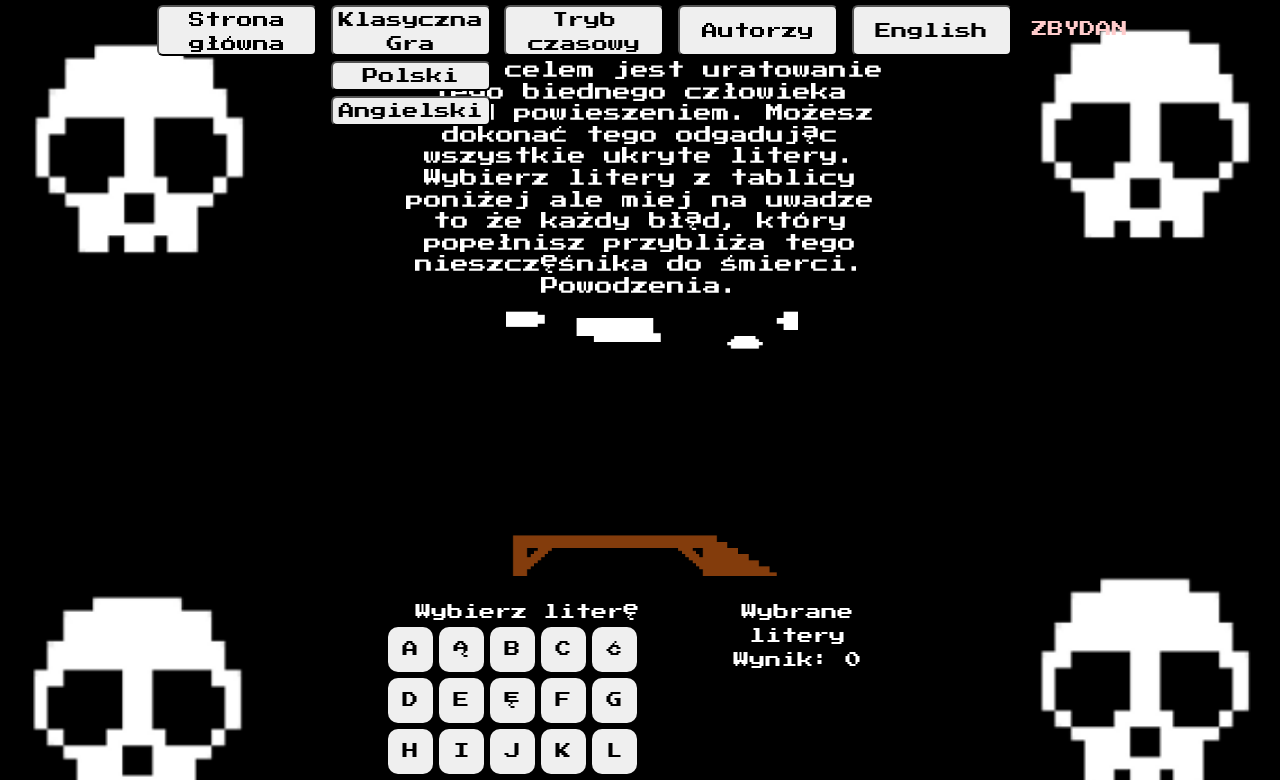
Test case: Toggle language button › Should check if text on "toggle language" button is "Polski" in classic game mode
Hover over the button with id "classic-game-button" at [411, 31], box [331,5,491,56]
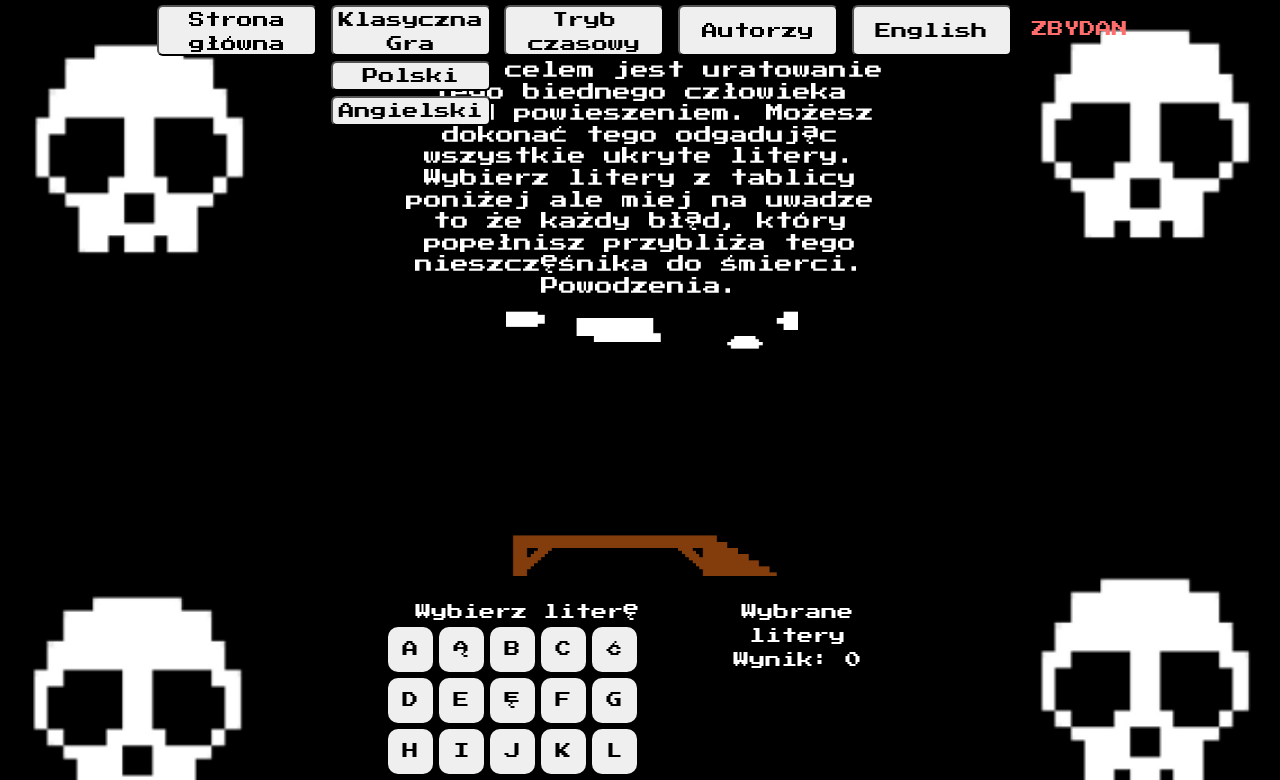
Hover over the button with id "classic-game-english-button" at [411, 111], box [331,96,491,126]
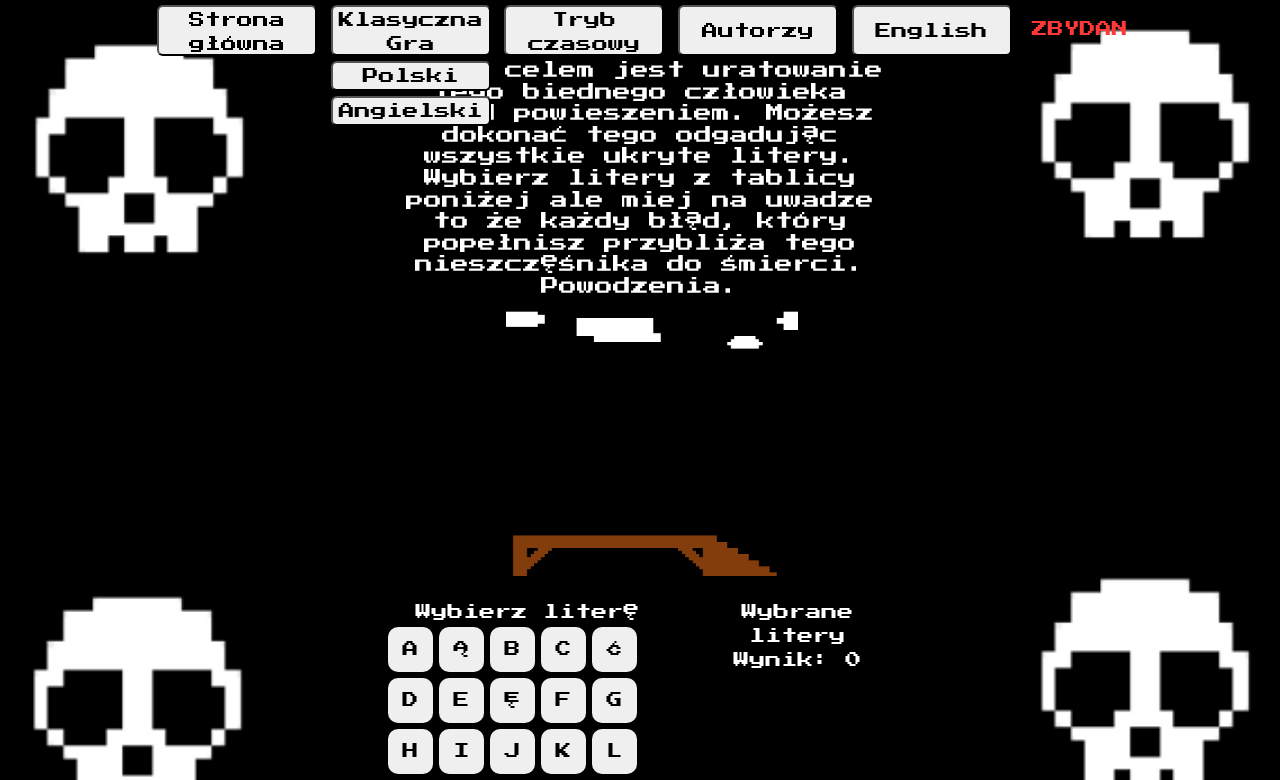
Click the button with id "classic-game-english-button" at [411, 111], box [331,96,491,126]
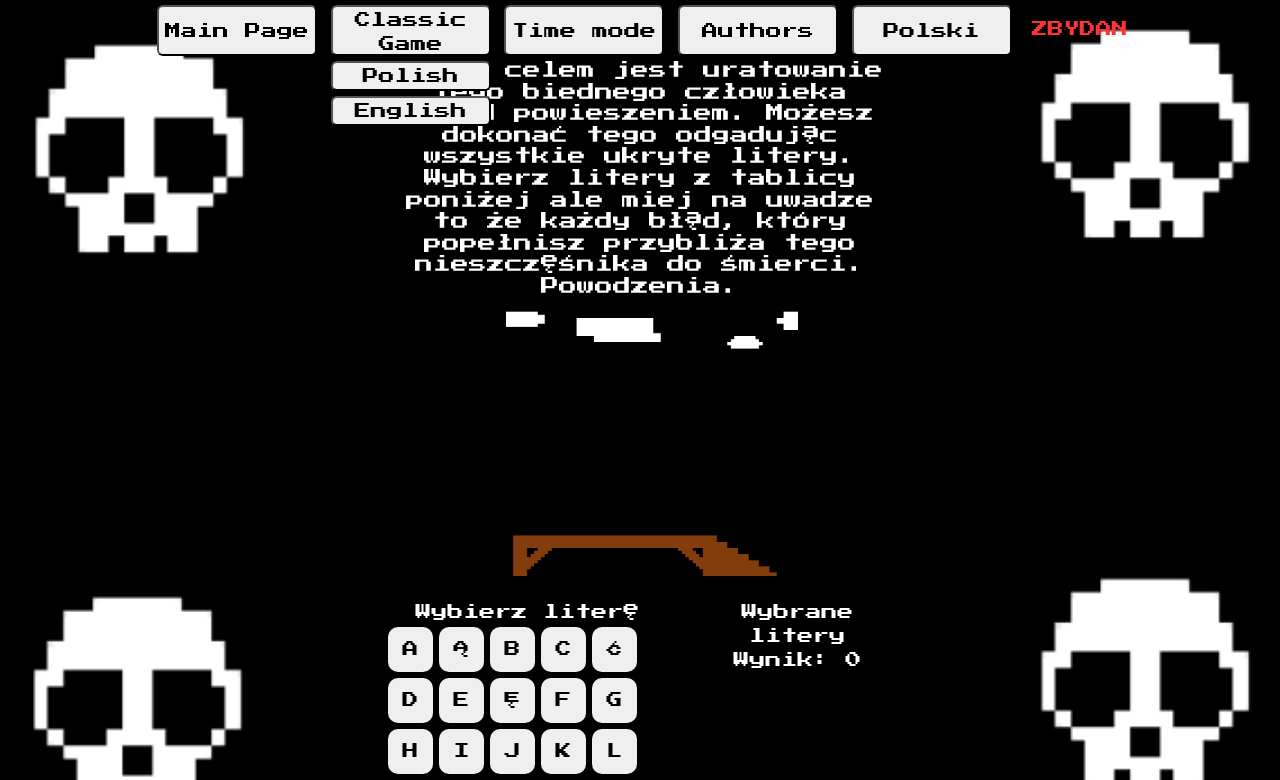
Expected: the button with id "toggle-language-button" reads "Polski", [852,5,1012,56]
